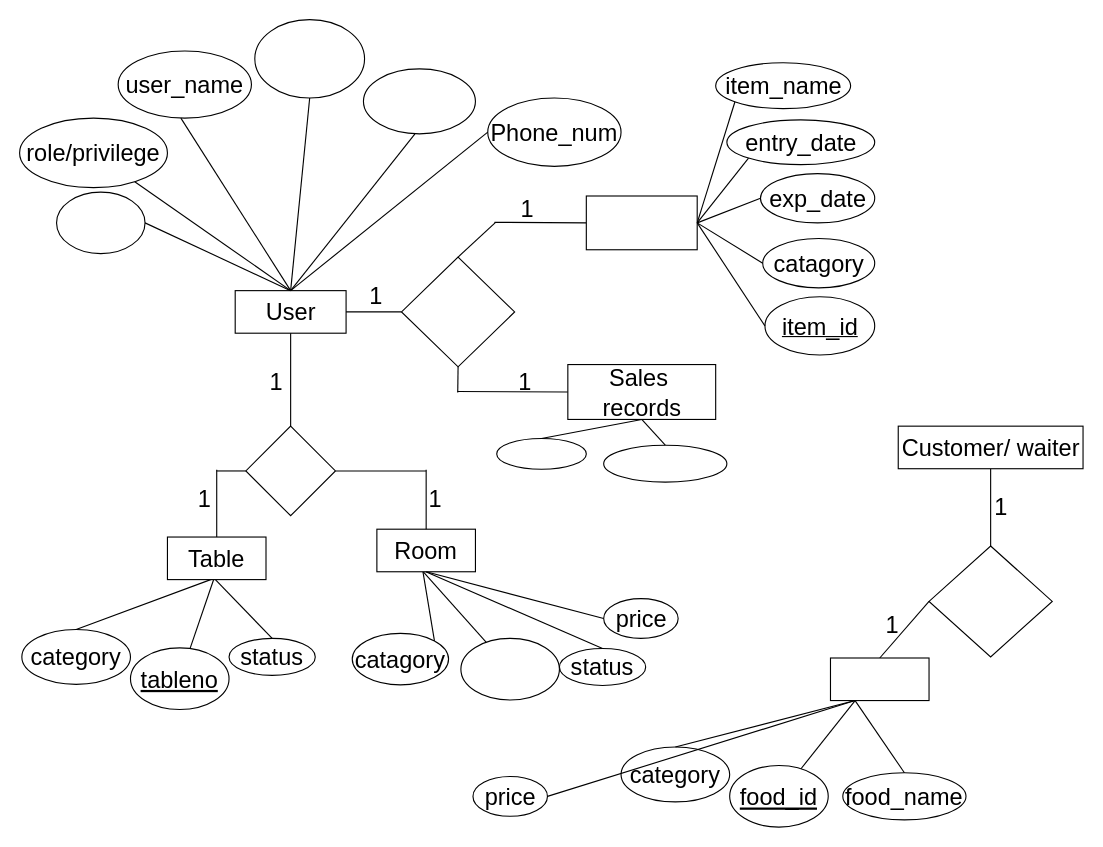
Some shapes in this 1103 by 847 pixel diagram are drawn without their labels. The shapes that lost their labels are listed below. From the top down, each one's box as (x1, y1, x2, y2) in pixels, then its label:
(254, 18, 365, 98): user_id
(362, 68, 475, 134): password
(55, 191, 145, 254): email
(585, 195, 697, 250): Inventory records
(400, 256, 515, 367): can access
(245, 425, 335, 516): Book
(496, 437, 586, 469): time
(603, 444, 727, 482): sales_no
(928, 545, 1052, 657): can order from
(460, 637, 559, 700): Roomno
(829, 657, 929, 701): Menu
